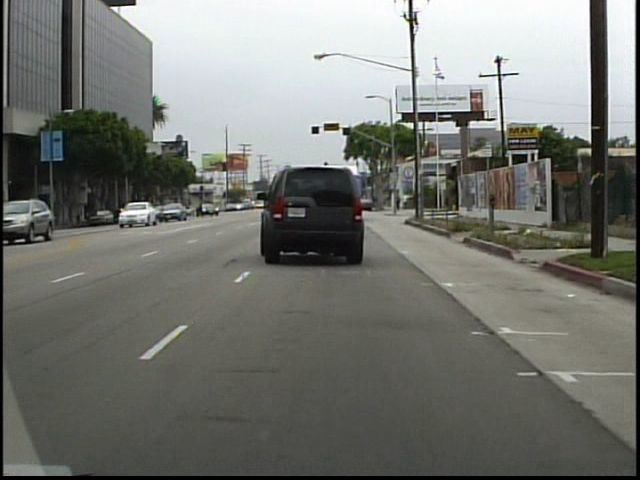person: (393, 189, 403, 214), (402, 190, 411, 211)
